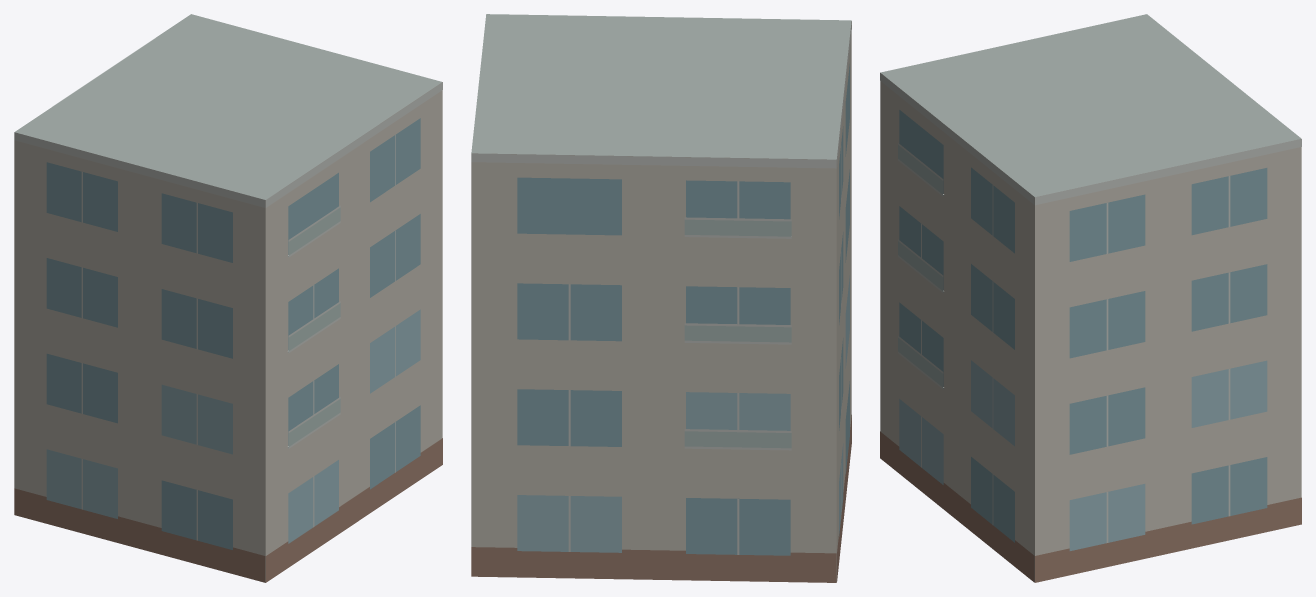
The model's file is survey-upis-32838354.glb.
3 views of the same model, side by side, from view 1: azimuth 30°, elevation 25°; view 2: azimuth 150°, elevation 25°; view 3: azimuth 270°, elevation 25° (orthographic). The views are drawn at different scales.
Visible parts, largest first — view 1: survey-upis-32838354.tmp; view 2: survey-upis-32838354.tmp; view 3: survey-upis-32838354.tmp.
Part boxes in pixels (bbox=[...]): survey-upis-32838354.tmp: bbox=[14, 14, 442, 582]; survey-upis-32838354.tmp: bbox=[471, 14, 851, 582]; survey-upis-32838354.tmp: bbox=[880, 14, 1301, 582].
Bounding box in the file's own units: 11.83 × 11.6 × 11.5.
